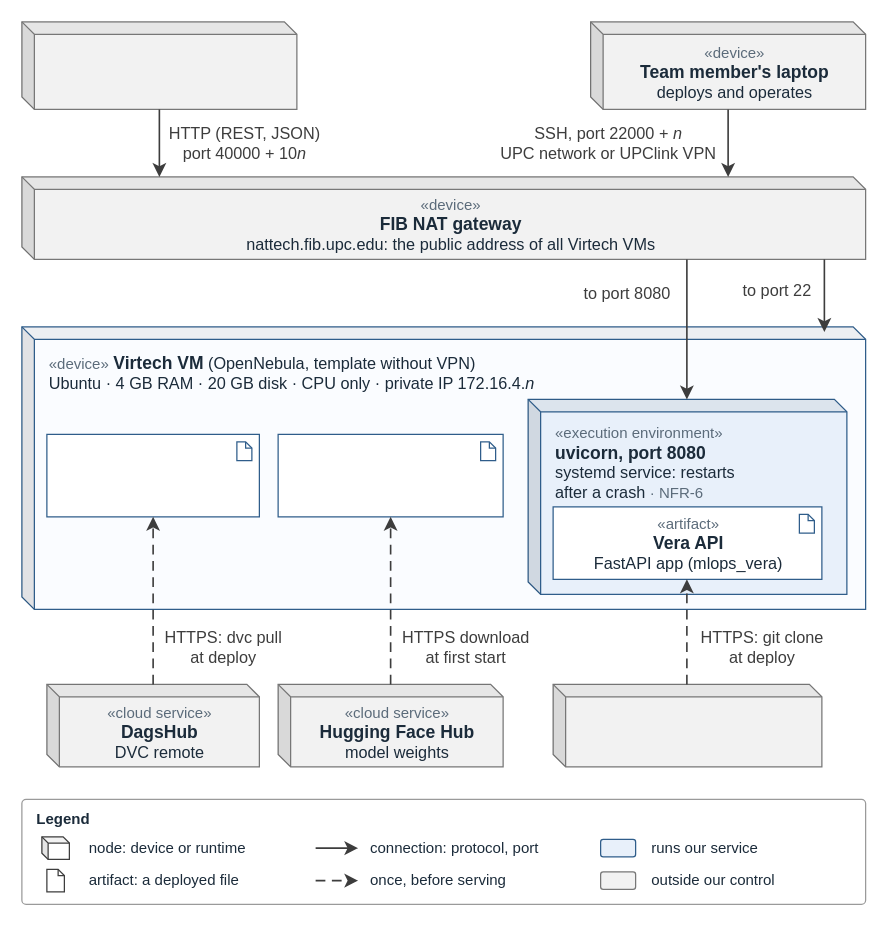
Some shapes in this 888 by 926 pixel diagram are drawn without their labels. The shapes that lost their labels are listed below. From the top down, each one's centre as x and y in pixels, then its label:
point (159, 65): «device» Client browser, curl or a script
point (152, 475): «artifact» classifier.joblib in models/
point (390, 475): «artifact» CLIP ViT-B/32 weights in the open_clip cache
point (687, 725): «cloud service» GitHub source code
